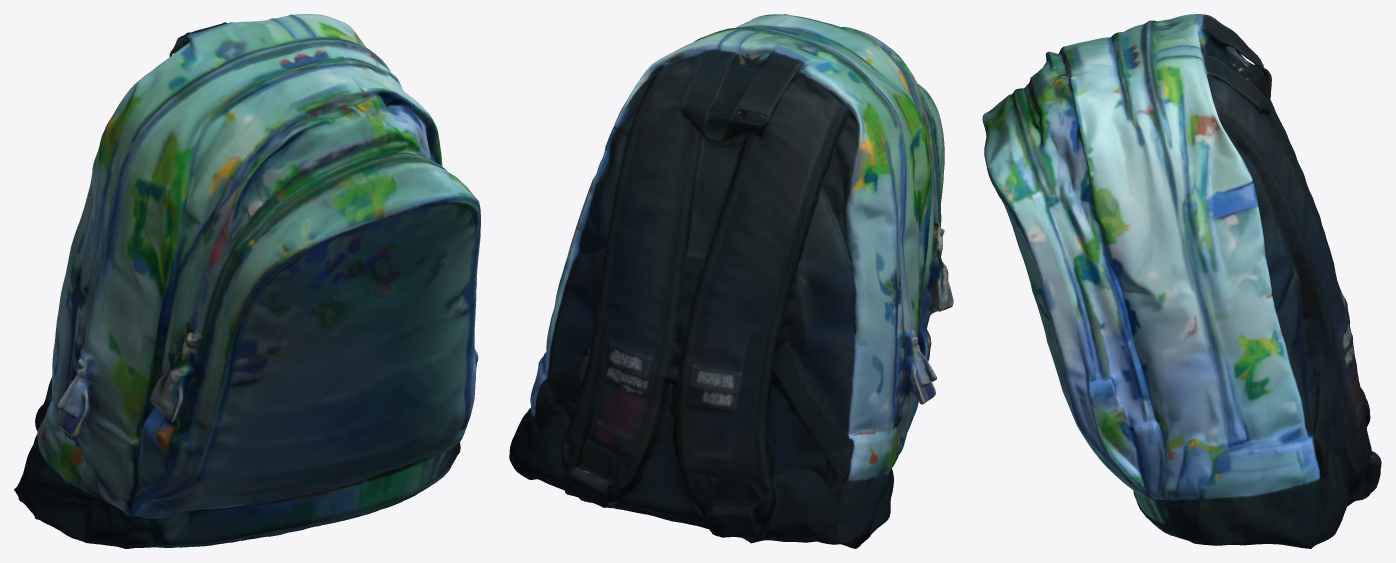
The model's file is Olive_Kids_Dinosaur_Land_Sidekick_Backpack.glb.
3 renders of one model, left to right at view 1: azimuth 30°, elevation 25°; view 2: azimuth 150°, elevation 25°; view 3: azimuth 270°, elevation 25°, orthographic. The views are drawn at different scales.
Parts seen in each view (by area): view 1: geometry_0; view 2: geometry_0; view 3: geometry_0.
Boxes of the visible parts, x1,y1,x2,y2 form: geometry_0: (14, 14, 480, 548); geometry_0: (509, 14, 953, 548); geometry_0: (982, 14, 1381, 548).
Bounding box in the file's own units: 0.8739 × 0.9943 × 0.8191.
1 material, 1 textured.
